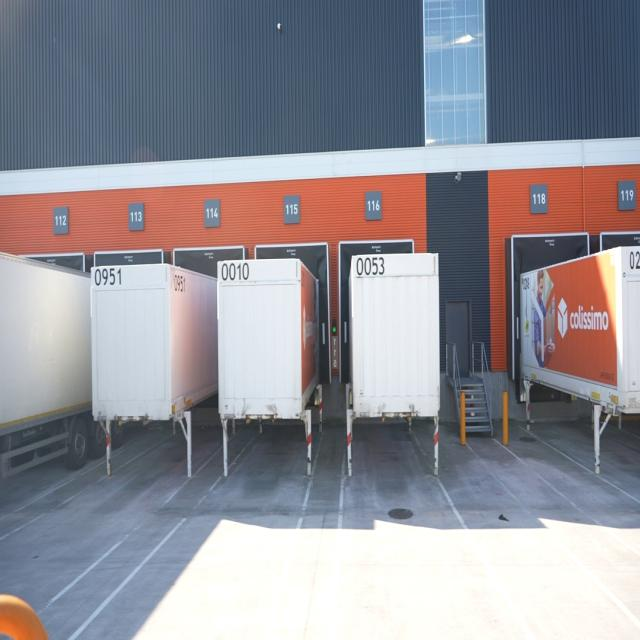Code: (354, 253, 388, 281), (218, 258, 250, 287), (88, 265, 128, 288), (172, 267, 187, 295)
